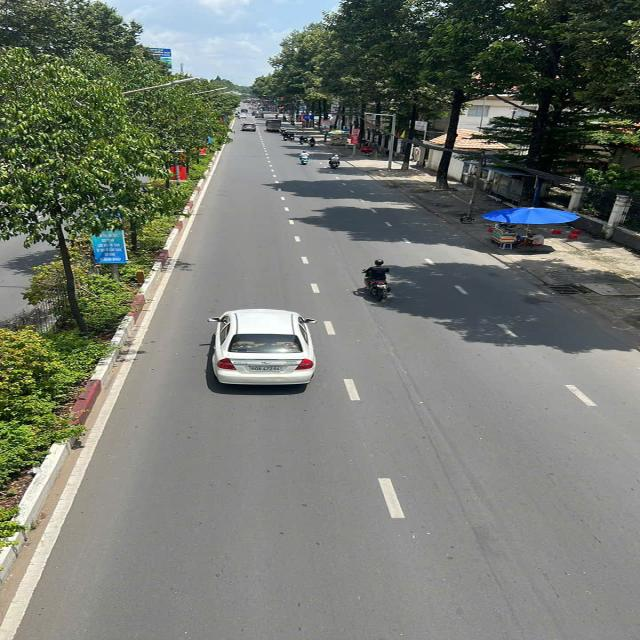ben: (266, 118, 284, 133)
car: (202, 308, 332, 392), (237, 120, 261, 133), (237, 113, 249, 120)
motobyte: (359, 256, 401, 304), (327, 154, 344, 171), (297, 148, 312, 167), (309, 136, 317, 147)
